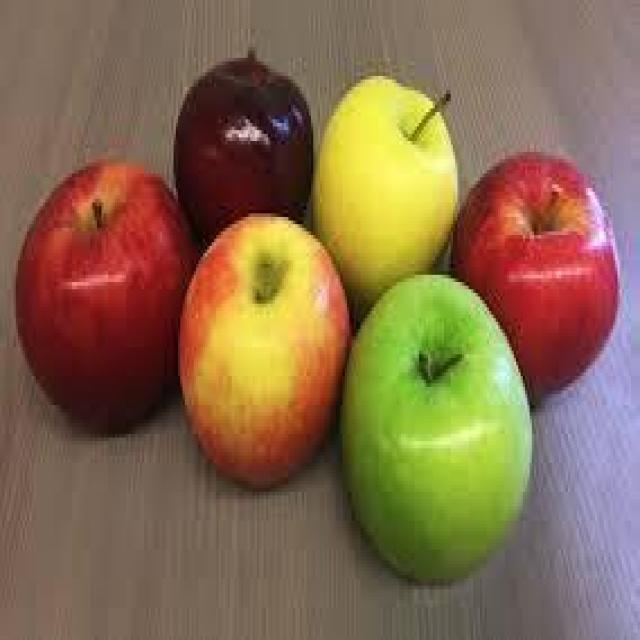maca: (338, 268, 534, 582), (176, 210, 349, 488)
